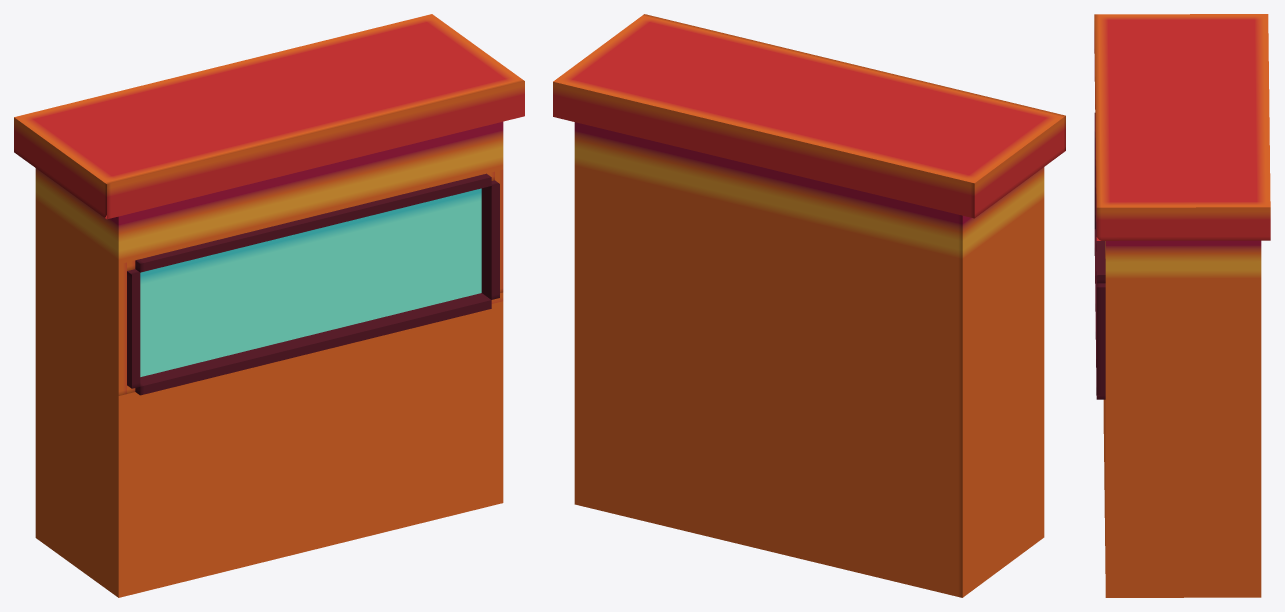
Rendered from MesaGato.fbx.
The picture shows the model from 3 angles, left to right: view 1: azimuth 30°, elevation 25°; view 2: azimuth 150°, elevation 25°; view 3: azimuth 270°, elevation 25°; orthographic projection. The views are drawn at different scales.
Visible parts, largest first — view 1: MesaGato; view 2: MesaGato; view 3: MesaGato.
Boxes of the visible parts, x1,y1,x2,y2 form: MesaGato: (14,14,524,597); MesaGato: (553,14,1065,597); MesaGato: (1094,14,1270,597).
Size of the model in its own units: 5.03 by 4.82 by 1.93.
